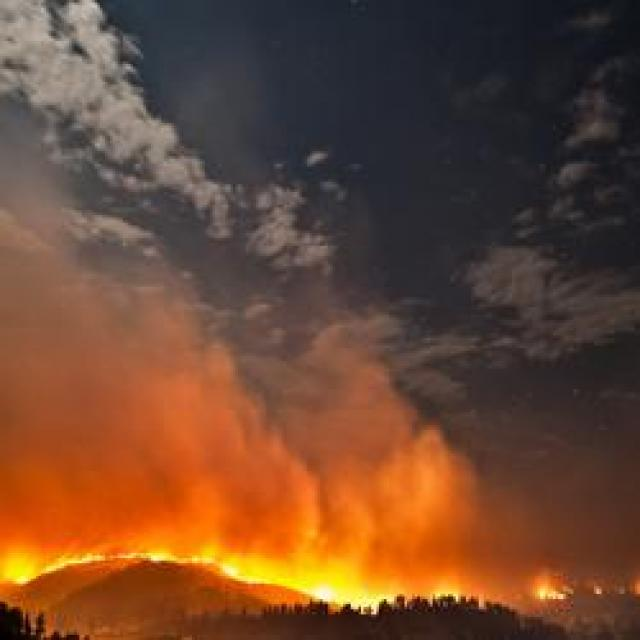fire: (222, 560, 257, 590), (44, 554, 100, 569), (358, 592, 388, 614), (7, 563, 26, 586), (533, 583, 551, 601), (148, 549, 164, 564), (315, 586, 328, 601)
smoke: (2, 147, 84, 442), (78, 304, 228, 448), (7, 432, 235, 526), (220, 405, 338, 539), (392, 425, 479, 575), (320, 452, 407, 568), (348, 355, 413, 466)
